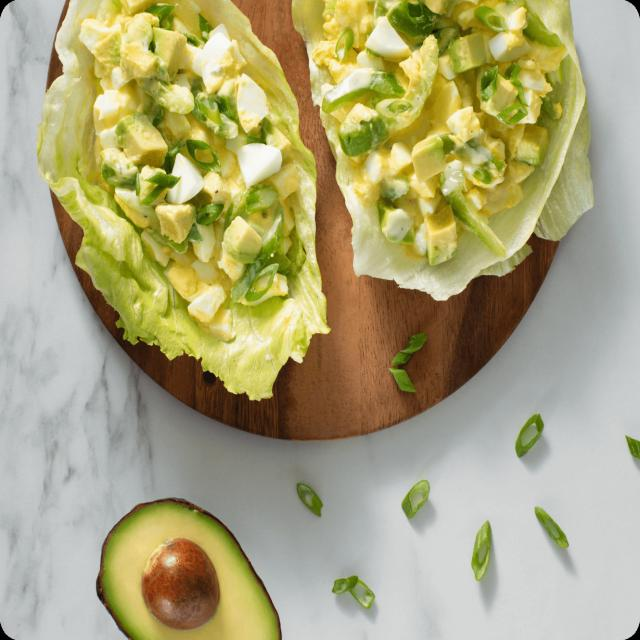aguacate: (92, 493, 298, 640)
